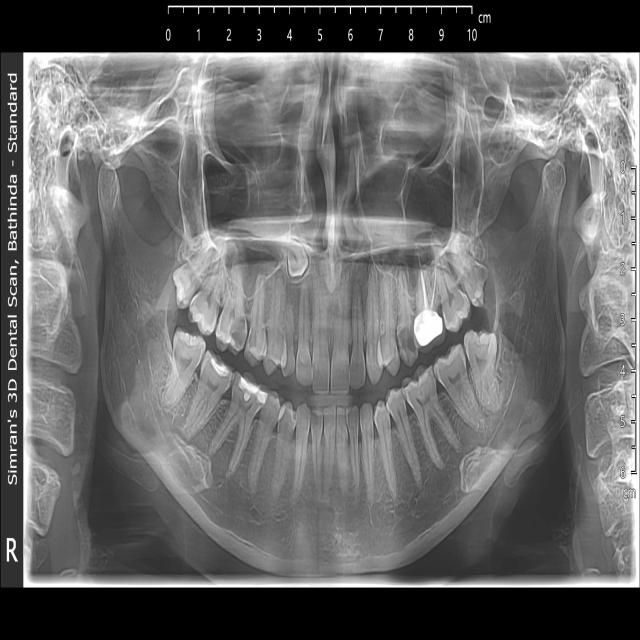Caries: (216, 307, 247, 352), (464, 258, 490, 309), (397, 321, 419, 369)
Crown: (414, 312, 442, 353)
Filling: (230, 371, 268, 420)
Root Canal Treatment: (412, 258, 443, 347)
impacted tooth: (466, 325, 503, 414), (451, 235, 490, 307), (173, 246, 214, 309)
